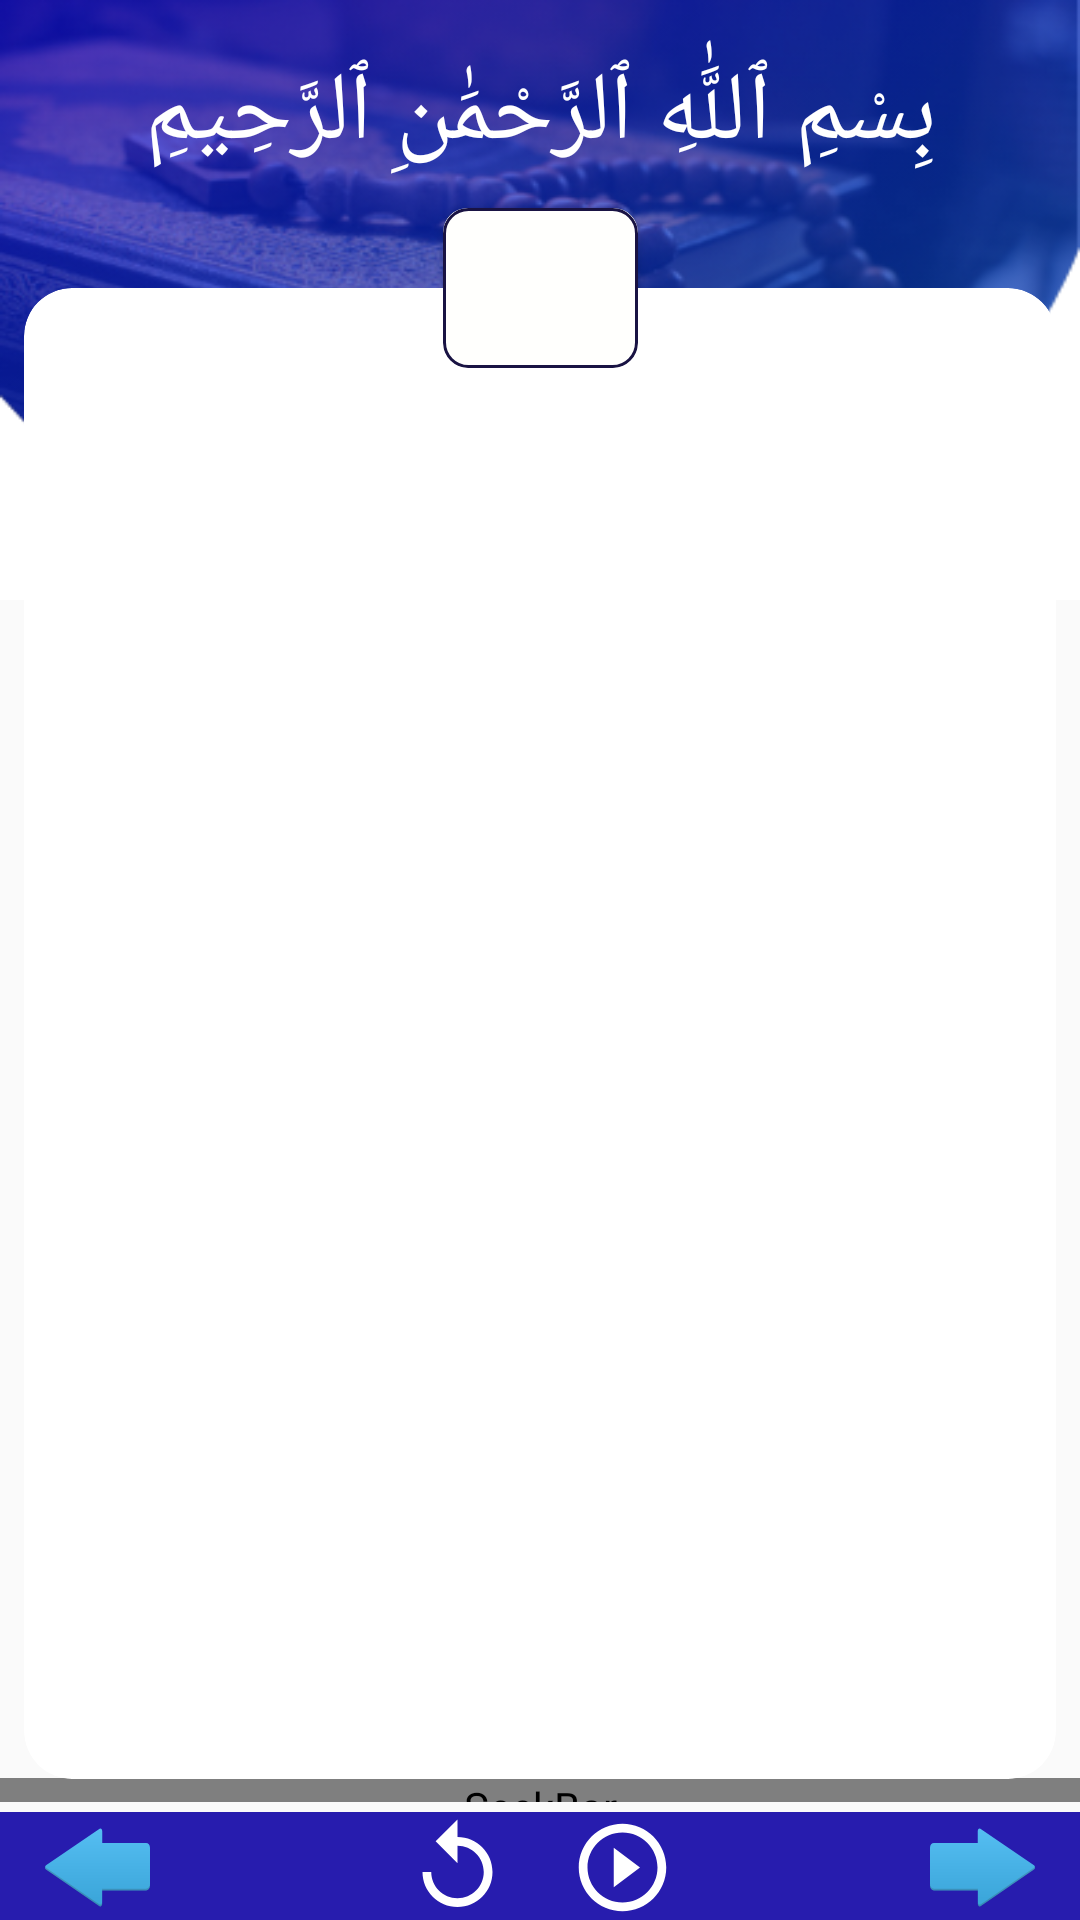

Locate icon controls on the screen. Image size 1080*1920, boxes as (x1, y1, x2, y2).
left click: (45, 1828, 150, 1907)
right click: (930, 1828, 1035, 1907)
